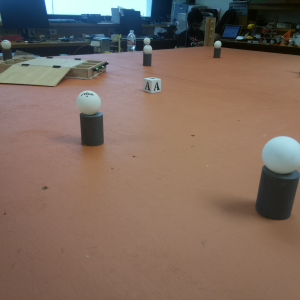obstacle: (255, 134, 296, 213), (73, 87, 112, 147), (141, 45, 153, 68), (1, 40, 14, 58), (213, 42, 222, 59)
side: (74, 61, 109, 78)
slope: (4, 64, 69, 85)
